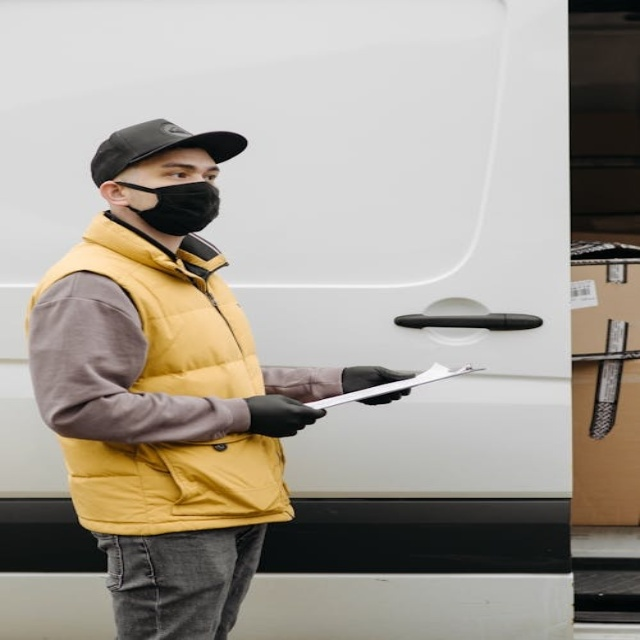Guantes: (240, 395, 325, 438), (340, 366, 420, 404)
Mascara: (113, 179, 222, 234)
Sin_gafas: (147, 157, 224, 182)
